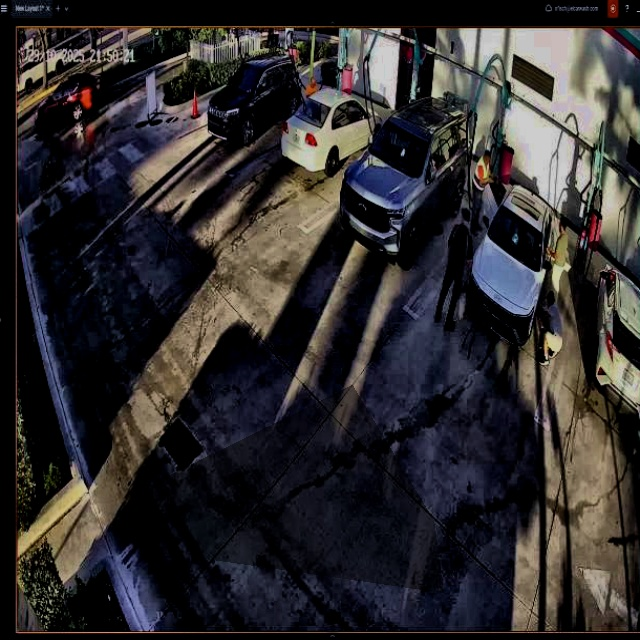Car: (342, 101, 469, 267), (468, 181, 553, 340), (280, 87, 382, 176)
